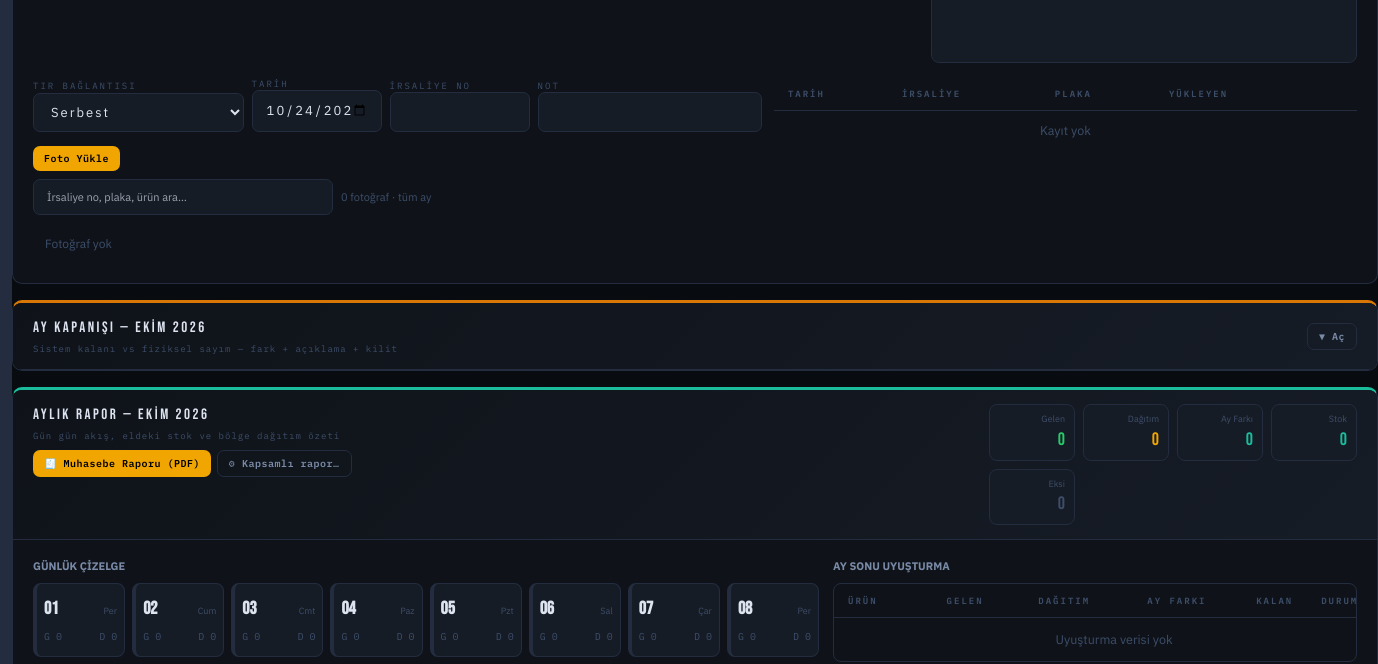
Test: WaterPage tek-ekran pano smoke › ay kapanışı paneli açılınca uyuşturma satırı + sistem kalanı gösterir
The width and height of the screenshot is (1378, 664).
(page scrolled)
Click the button "▼ Aç" at (1332, 336), box [1307,322,1357,350]
(page scrolled)
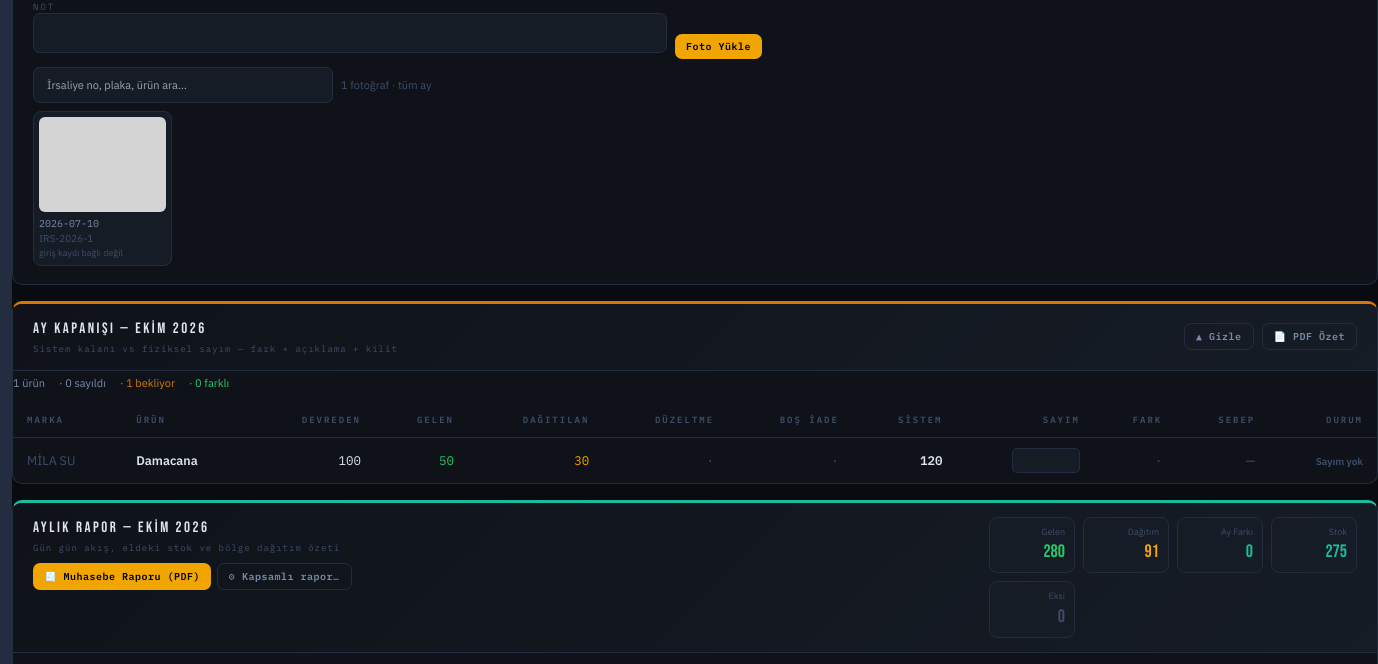
Result: the text "120" is shown at [853,438,956,483]
Result: the field named "Damacana sayım" is shown at [1012,448,1080,473]
Result: the button "📄 PDF Özet" is shown at [1262,324,1357,350]
